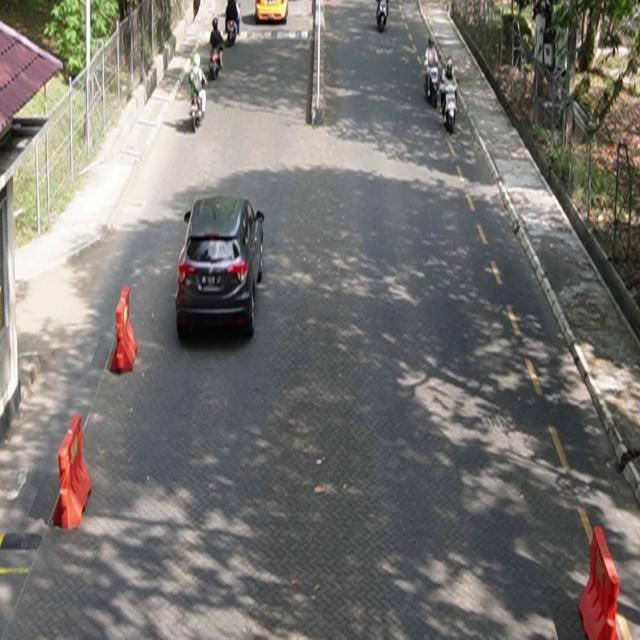car: (176, 195, 265, 340)
